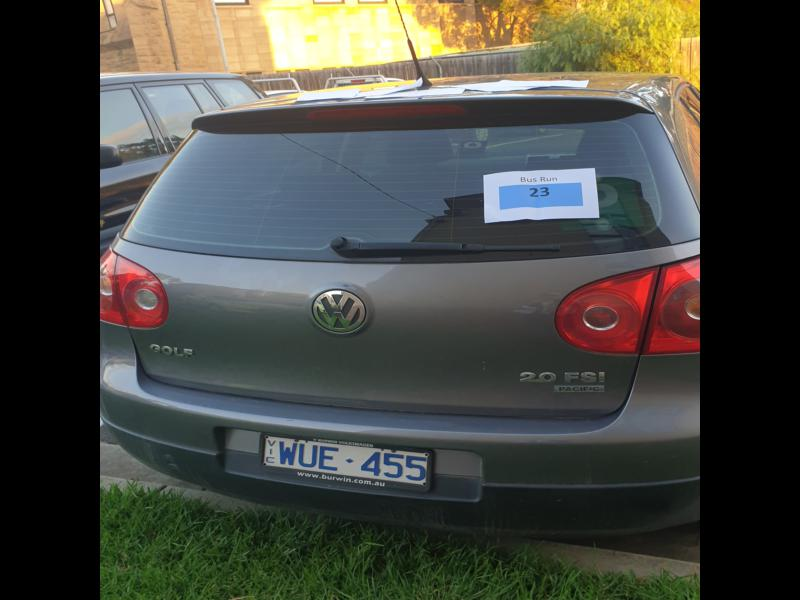BusRun: (497, 184, 586, 208)
PlateNo: (259, 434, 430, 483)
